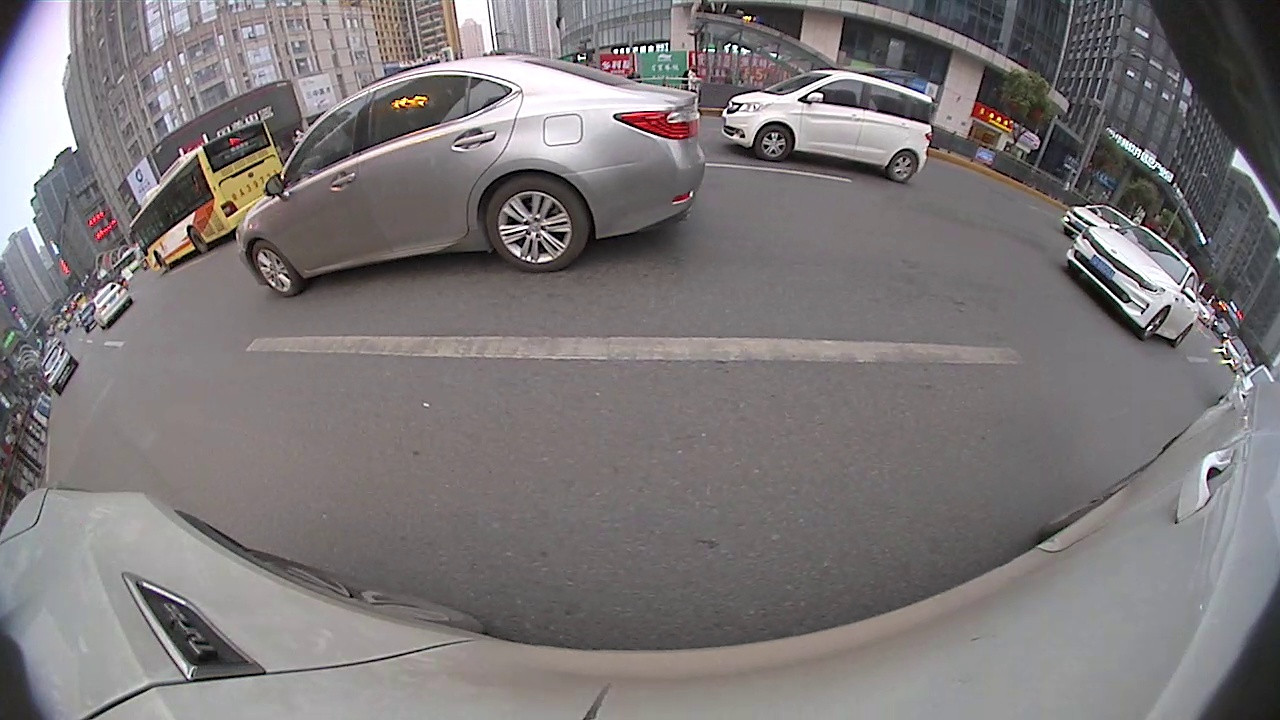bus: (133, 116, 294, 273)
car: (239, 44, 710, 304), (719, 73, 939, 187), (1062, 227, 1204, 346), (88, 280, 137, 333), (39, 340, 79, 396)
front: (248, 237, 306, 300), (753, 120, 795, 166), (1138, 305, 1169, 340)
rear: (483, 174, 591, 275), (884, 148, 919, 186), (186, 227, 209, 255)
